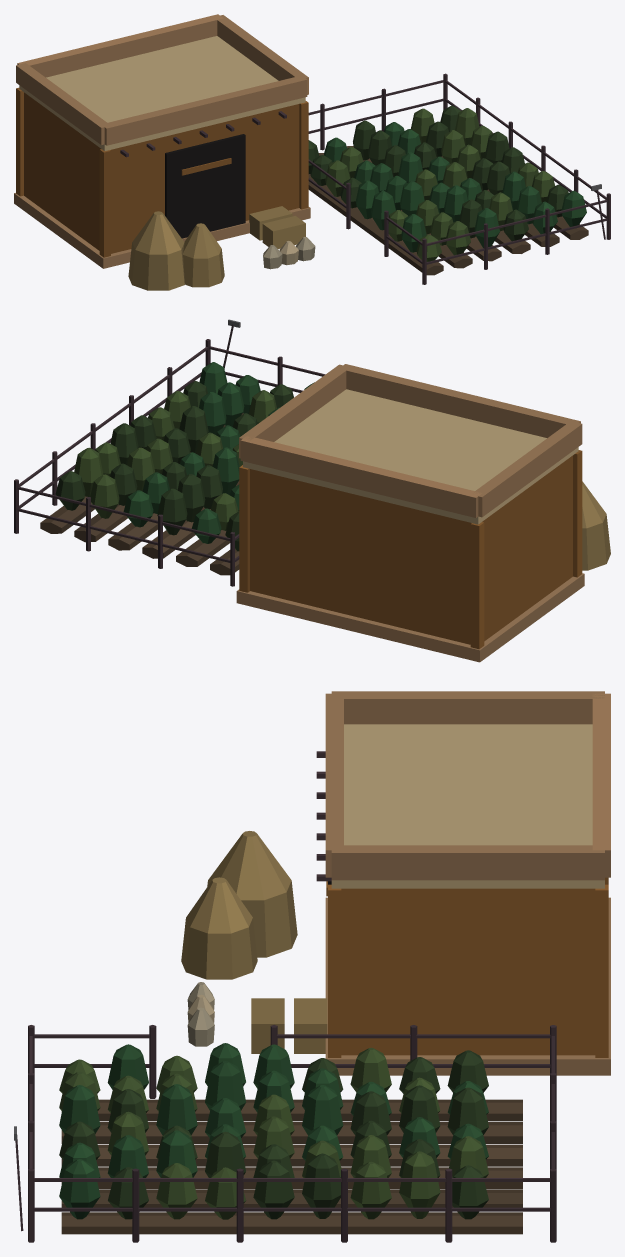
The model's file is walk_hive_plantation.glb.
The picture shows the model from 3 angles, top to bottom: view 1: azimuth 30°, elevation 25°; view 2: azimuth 150°, elevation 25°; view 3: azimuth 270°, elevation 25°; orthographic projection. The views are drawn at different scales.
Visible parts, largest first — view 1: walk_hive_plantation, walk_hive_plantation_roof; view 2: walk_hive_plantation, walk_hive_plantation_roof; view 3: walk_hive_plantation, walk_hive_plantation_roof.
Boxes of the visible parts, x1,y1,x2,y2 form: walk_hive_plantation: [14, 73, 610, 290]; walk_hive_plantation_roof: [16, 14, 308, 150]; walk_hive_plantation: [14, 319, 610, 662]; walk_hive_plantation_roof: [239, 364, 582, 524]; walk_hive_plantation: [14, 751, 610, 1242]; walk_hive_plantation_roof: [325, 691, 610, 888].
Size of what is drawn, in the model's own units: 12.6 by 4.24 by 9.84.
Materials: 2 (2 with a texture image).
